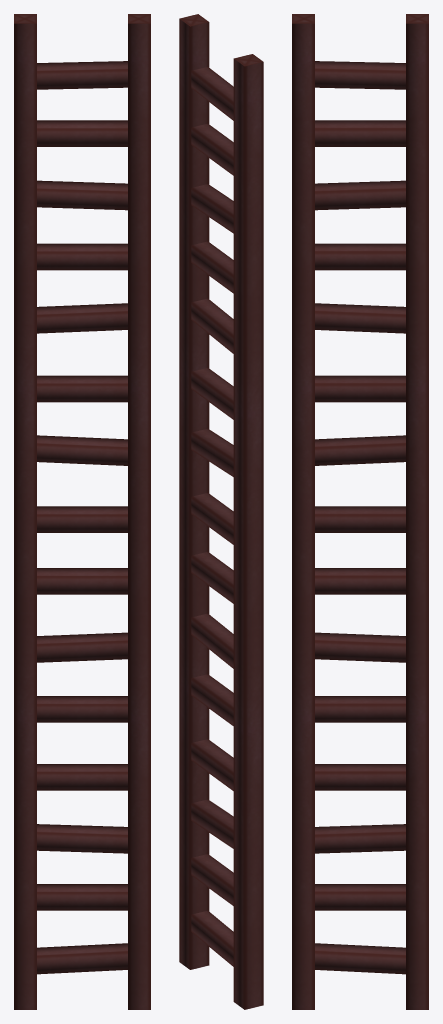
File: AO Ladder.fbx
3 views of the same model, side by side, from view 1: azimuth 90°, elevation 25°; view 2: azimuth 210°, elevation 25°; view 3: azimuth 270°, elevation 25° (orthographic). The views are drawn at different scales.
Visible parts, largest first — view 1: Ladder; view 2: Ladder; view 3: Ladder.
Part boxes in pixels (x1,y1,x2,y2): Ladder: [14, 14, 150, 1009]; Ladder: [179, 14, 263, 1009]; Ladder: [292, 14, 428, 1009].
Bounding box in the file's own units: 40 × 1897 × 239.
